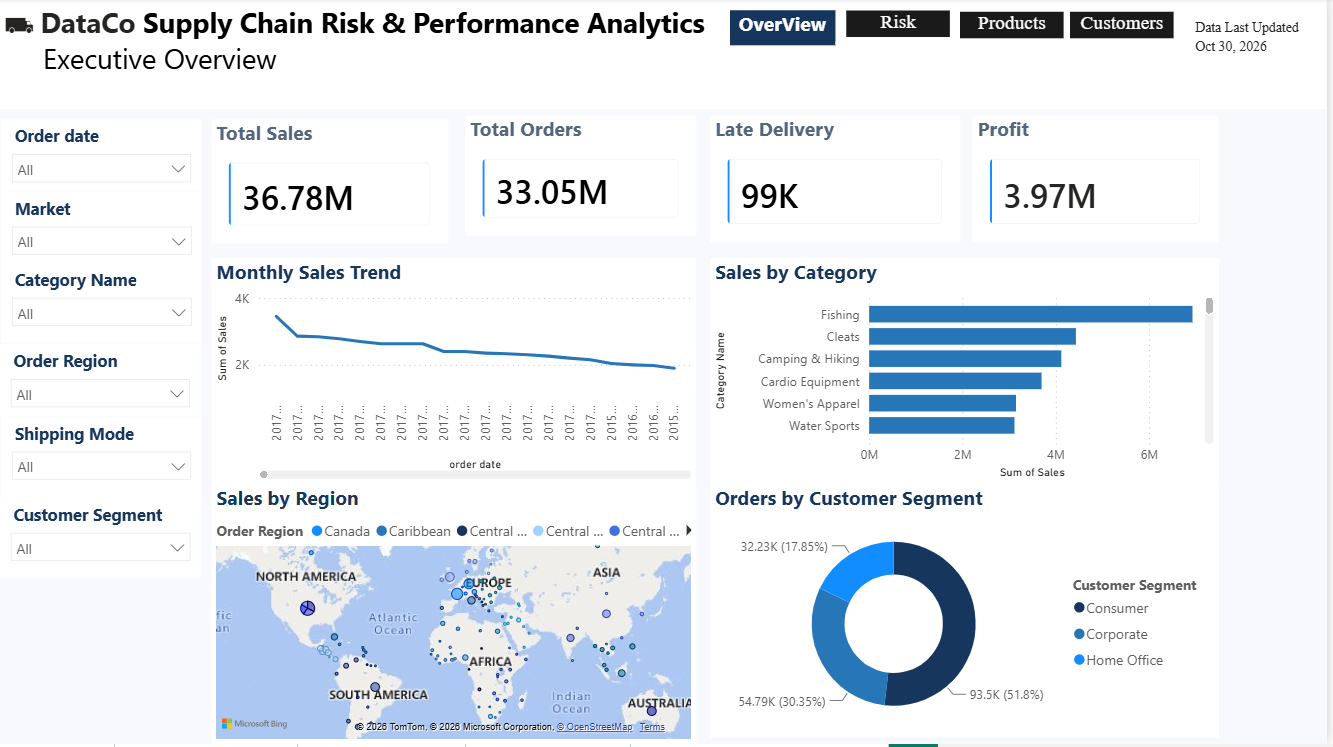

What the dashboard file says about the page in this screenshot:
{"tool":"powerbi","page":{"name":"Executive Overview","canvas":[1280,720],"ordinal":1},"visuals":[{"type":"cardVisual","title":"Total Sales","fields":{"Data":["Sum(final_supply_chain_dashboard.Sales)"]},"box":[203.8,117.5,228.8,120],"z":0},{"type":"cardVisual","title":"Total Orders","fields":{"Data":["Sum(final_supply_chain_dashboard.Order Item Total)"]},"box":[448.8,113.4,223.2,115.8],"z":1000},{"type":"cardVisual","title":"Profit","fields":{"Data":["Sum(final_supply_chain_dashboard.Order Profit Per Order)"]},"box":[938.6,113.4,237.5,122.5],"z":2000},{"type":"cardVisual","title":"Late Delivery","fields":{"Data":["Sum(final_supply_chain_dashboard.Late_delivery_risk)"]},"box":[685.3,113.4,241.2,122.5],"z":3000},{"type":"textbox","box":[0,0,1280,107.5],"z":4000},{"type":"slicer","fields":{"Values":["final_supply_chain_dashboard.Order Region"]},"box":[0,333.8,193.2,69.7],"z":5000},{"type":"actionButton","title":"OverView","box":[704.6,12.1,101.3,33.8],"z":6000},{"type":"actionButton","title":"Risk","box":[816.8,12.1,100.3,34.2],"z":7000},{"type":"actionButton","title":"Products","box":[926.5,13.3,100.3,34.2],"z":8000},{"type":"actionButton","title":"Customers","box":[1032.5,13.8,100.3,34.2],"z":9000},{"type":"textbox","box":[1148.8,13.8,121.1,48.9],"z":10000},{"type":"slicer","title":"Order Date","fields":{"Values":["final_supply_chain_dashboard.order date"]},"box":[1.2,117.5,193.2,69.7],"z":11000},{"type":"slicer","fields":{"Values":["final_supply_chain_dashboard.Market"]},"box":[1.2,187.5,193.8,68.8],"z":12000},{"type":"slicer","fields":{"Values":["final_supply_chain_dashboard.Category Name"]},"box":[1.2,256.2,193.8,77.5],"z":13000},{"type":"slicer","fields":{"Values":["final_supply_chain_dashboard.Shipping Mode"]},"box":[1.2,403.8,193.2,78.3],"z":14000},{"type":"slicer","fields":{"Values":["final_supply_chain_dashboard.Customer Segment"]},"box":[0,482.5,193.8,77.5],"z":15000},{"type":"lineChart","title":"Monthly Sales Trend","fields":{"Category":["final_supply_chain_dashboard.order date"],"Y":["Sum(final_supply_chain_dashboard.Sales)"]},"box":[203.9,250.9,468.1,218.4],"z":16000},{"type":"clusteredBarChart","title":"Sales by Category ","fields":{"Category":["final_supply_chain_dashboard.Category Name"],"Y":["Sum(final_supply_chain_dashboard.Sales)"]},"box":[685.3,250.9,491,218.4],"z":17000},{"type":"map","title":"Sales by Region","fields":{"Category":["final_supply_chain_dashboard.Order Country"],"Series":["final_supply_chain_dashboard.Order Region"],"Size":["Sum(final_supply_chain_dashboard.Sales)"]},"box":[203.9,469.3,468.1,250.9],"z":18000},{"type":"donutChart","title":"Orders by Customer Segment","fields":{"Category":["final_supply_chain_dashboard.Customer Segment"],"Y":["CountNonNull(final_supply_chain_dashboard.Order Id)"]},"box":[685.3,469.3,491,244.9],"z":19000}]}

Visuals, with their boxes in screenshot pixels (x1, y1, x2, y2), scaled from the page's 1280x720 canvas onto the 1333x747 screenshot:
"Total Sales" cardVisual: [212, 122, 451, 246]
"Total Orders" cardVisual: [467, 118, 700, 238]
"Profit" cardVisual: [977, 118, 1225, 245]
"Late Delivery" cardVisual: [714, 118, 965, 245]
textbox: [0, 0, 1332, 112]
slicer - final_supply_chain_dashboard.Order Region: [0, 346, 201, 419]
"OverView" actionButton: [734, 13, 839, 48]
"Risk" actionButton: [851, 13, 955, 48]
"Products" actionButton: [965, 14, 1069, 49]
"Customers" actionButton: [1075, 14, 1180, 50]
textbox: [1196, 14, 1322, 65]
"Order Date" slicer: [1, 122, 202, 194]
slicer - final_supply_chain_dashboard.Market: [1, 195, 203, 266]
slicer - final_supply_chain_dashboard.Category Name: [1, 266, 203, 346]
slicer - final_supply_chain_dashboard.Shipping Mode: [1, 419, 202, 500]
slicer - final_supply_chain_dashboard.Customer Segment: [0, 501, 202, 581]
"Monthly Sales Trend" lineChart: [212, 260, 700, 487]
"Sales by Category " clusteredBarChart: [714, 260, 1225, 487]
"Sales by Region" map: [212, 487, 700, 746]
"Orders by Customer Segment" donutChart: [714, 487, 1225, 741]
